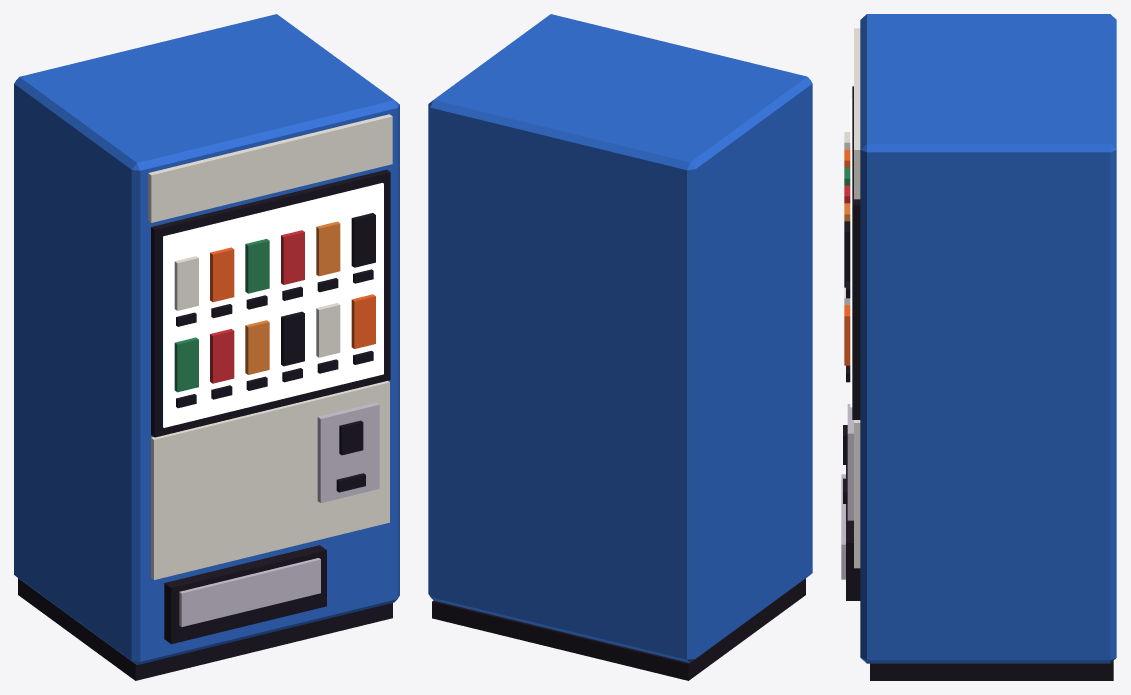
The model's file is vending_machine_blue.glb.
The picture shows the model from 3 angles, left to right: view 1: azimuth 30°, elevation 25°; view 2: azimuth 150°, elevation 25°; view 3: azimuth 270°, elevation 25°; orthographic projection. The views are drawn at different scales.
Parts seen in each view (by area): view 1: vending_machine_blue; view 2: vending_machine_blue; view 3: vending_machine_blue.
Boxes of the visible parts, x1=… form: vending_machine_blue: x1=14, y1=14, x2=399, y2=680; vending_machine_blue: x1=428, y1=14, x2=812, y2=680; vending_machine_blue: x1=841, y1=14, x2=1116, y2=680.
Size of the model in its own units: 1 by 1.85 by 0.86.
